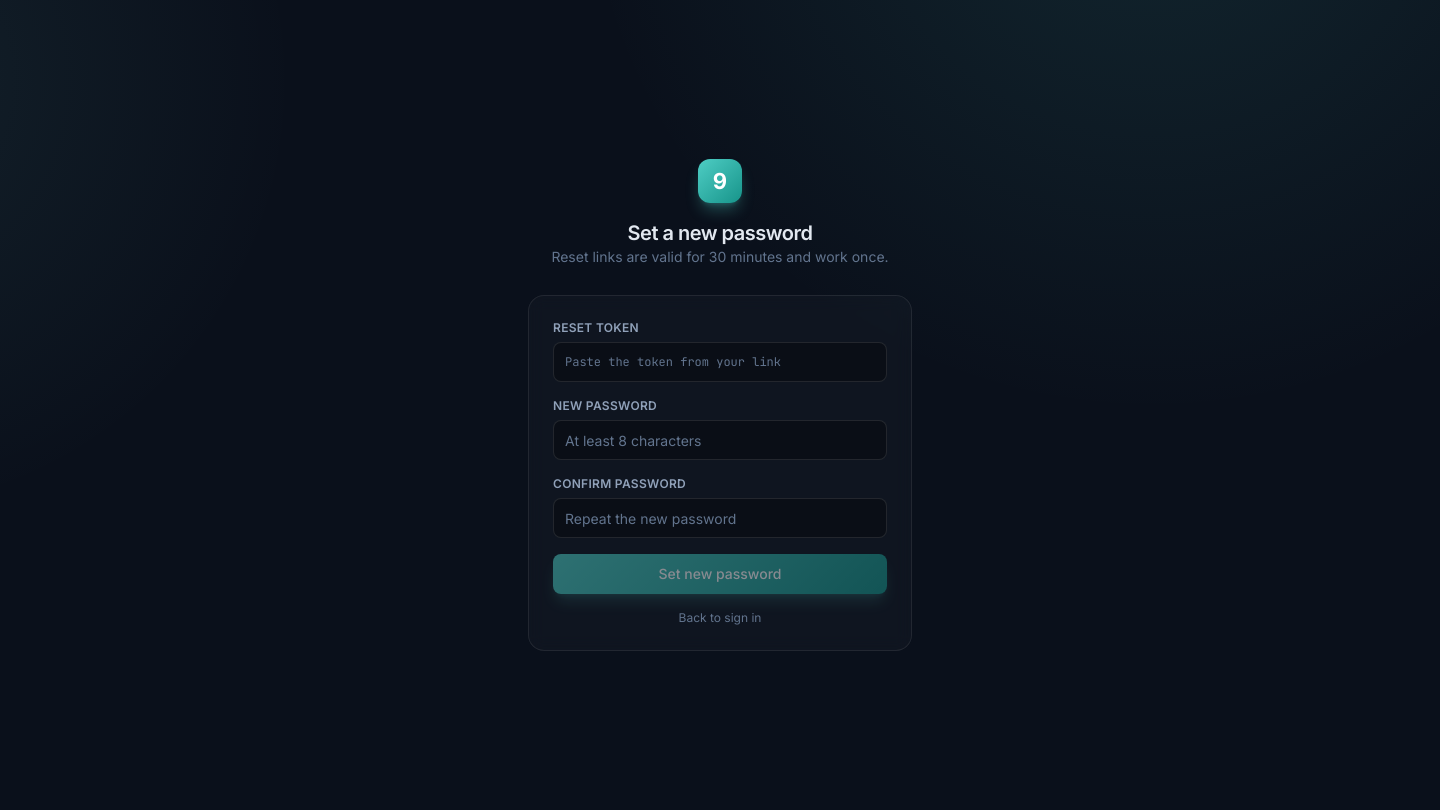
Test case: ResetPassword › rejects mismatched entries locally
This screenshot has width=1440, height=810.
Type "token-1234567890abcdef" into the field with placeholder "Paste the token from your link" at (720, 362), box [553,342,887,382]
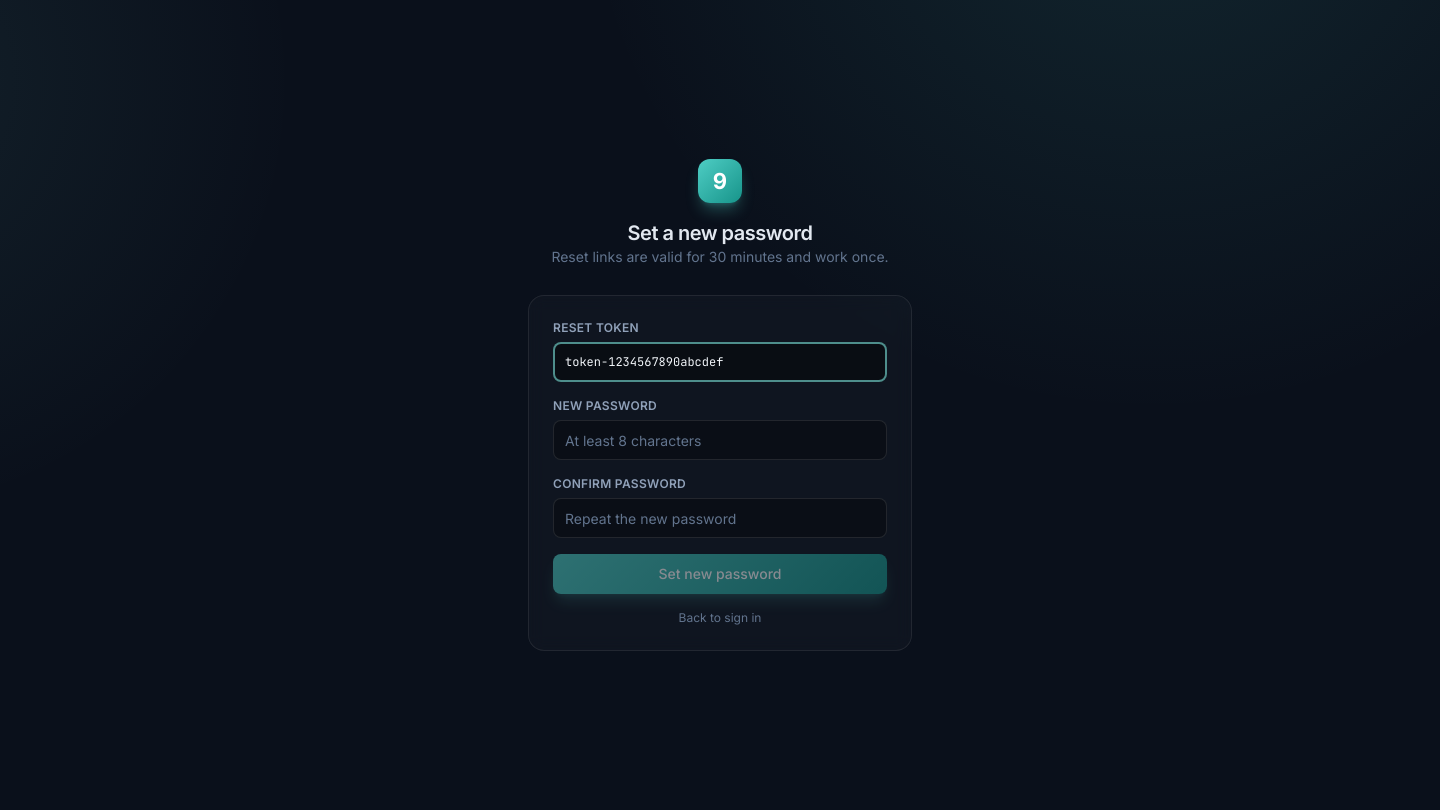
Type "fresh-pass-123" into the password field with placeholder "At least 8 characters" at (720, 440), box [553,420,887,460]
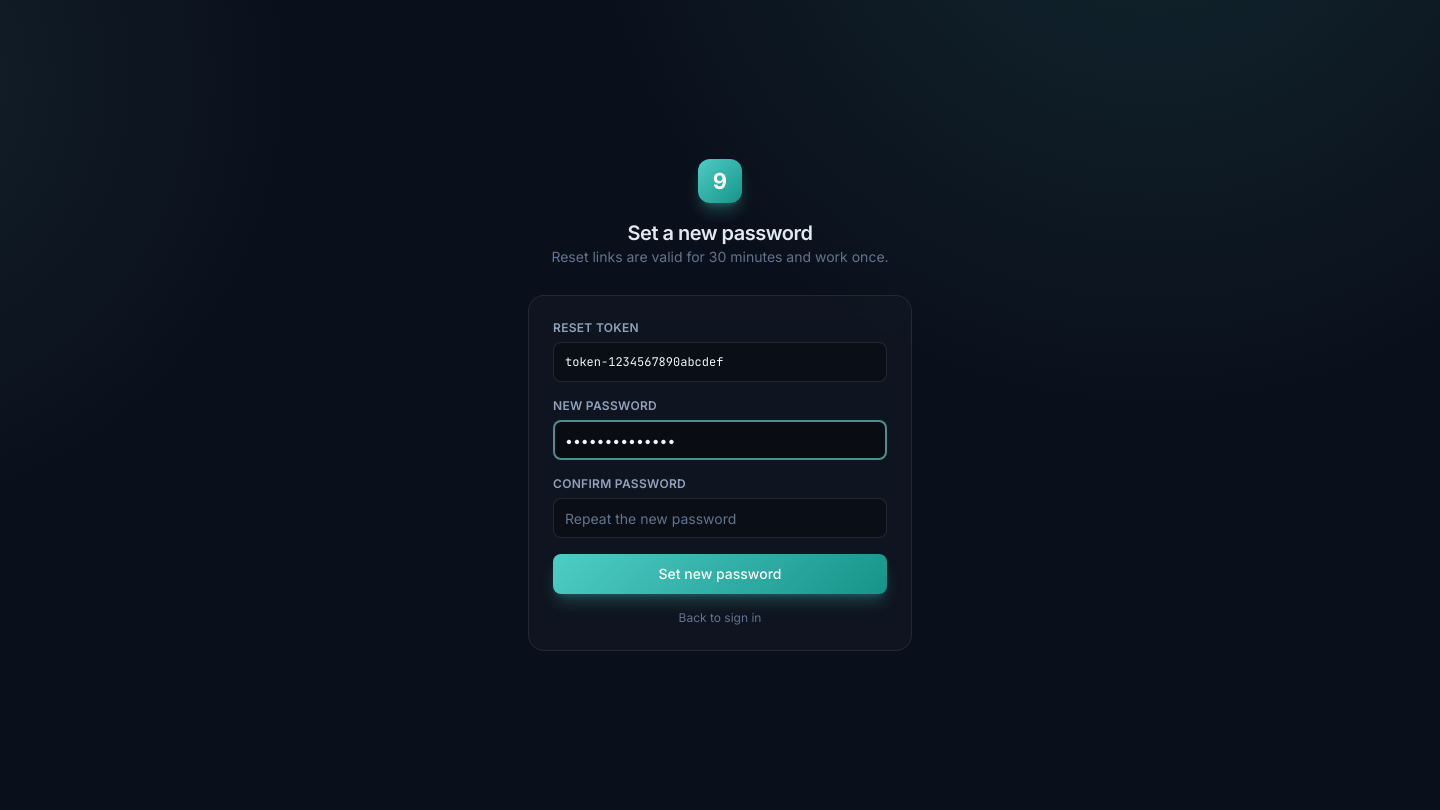
Type "fresh-pass-123" into the password field with placeholder "Repeat the new password" at (720, 518), box [553,498,887,538]
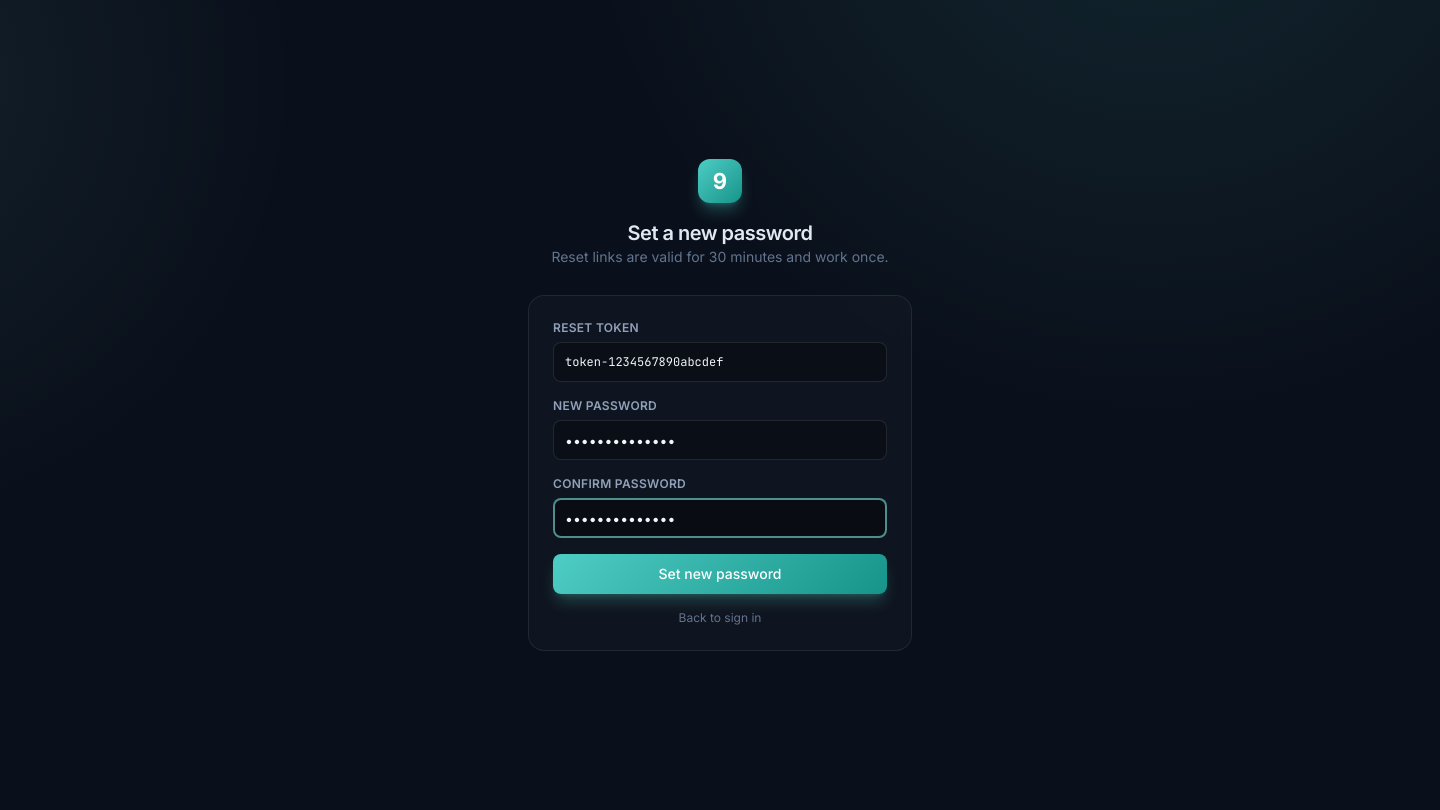
Type "different1" into the password field with placeholder "Repeat the new password" below "Confirm password" at (720, 518), box [553,498,887,538]
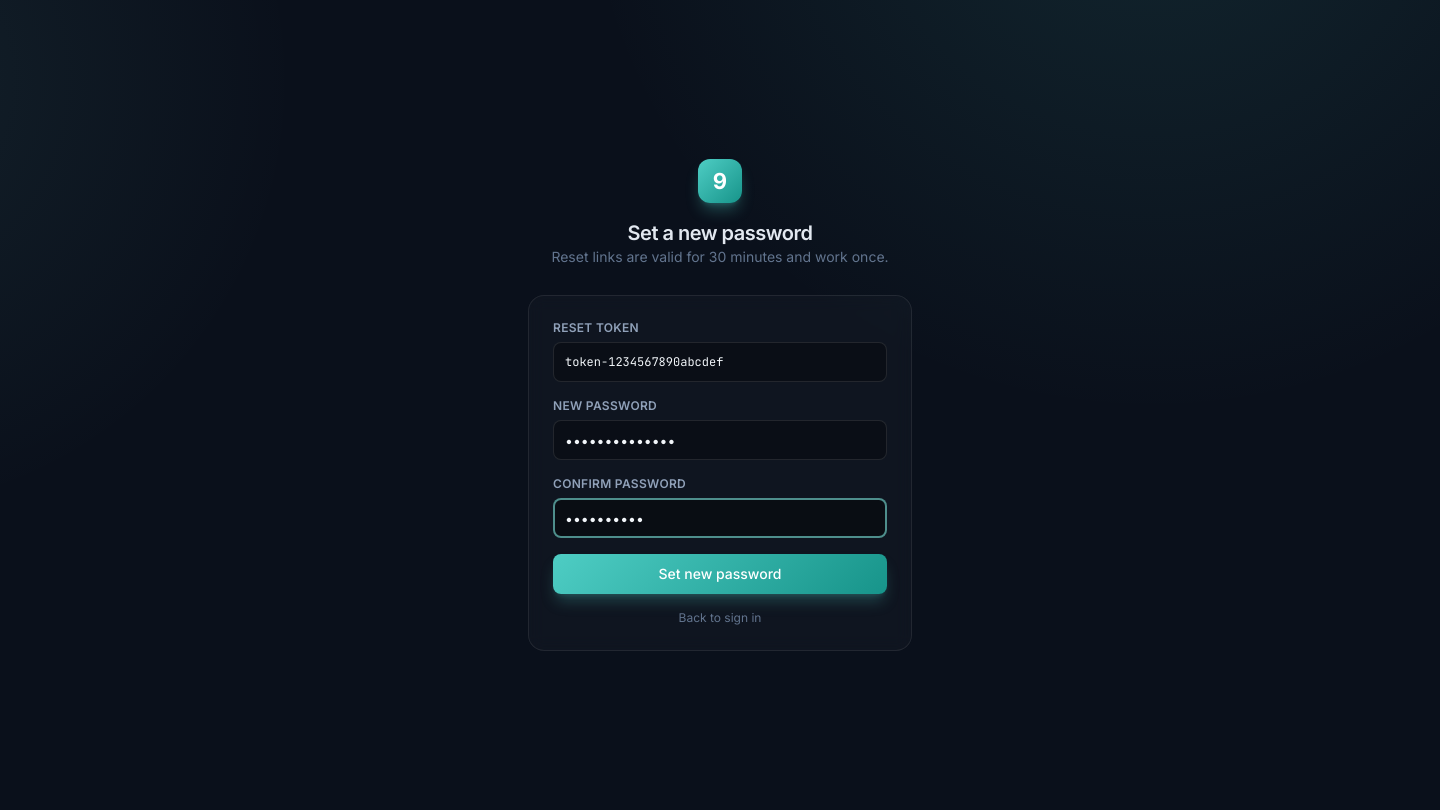
Click the button "Set new password" at (720, 574), box [553,554,887,594]
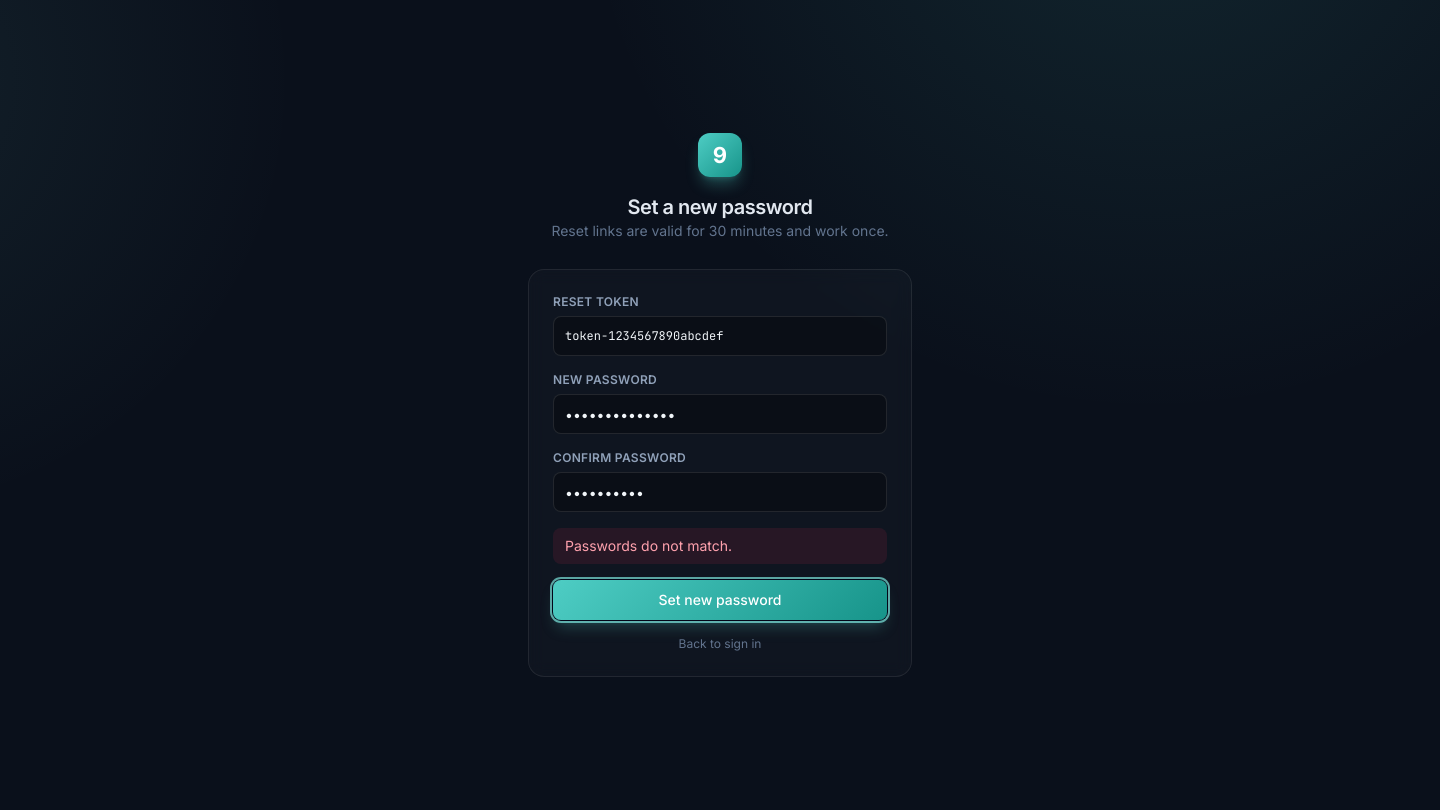
Check: the text "Passwords do not match." is shown, box [553,528,887,564]
